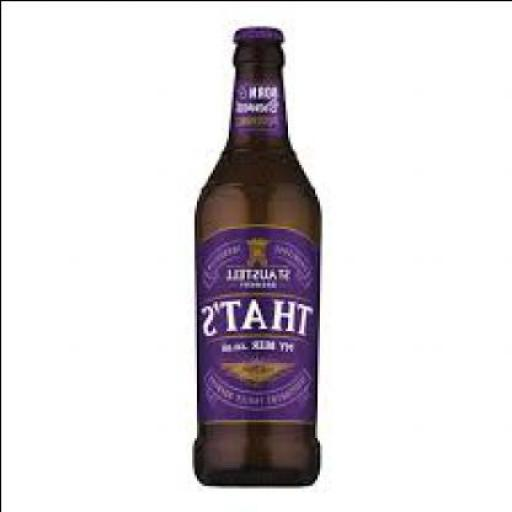glass: (191, 37, 323, 482)
metal: (237, 23, 286, 39)
